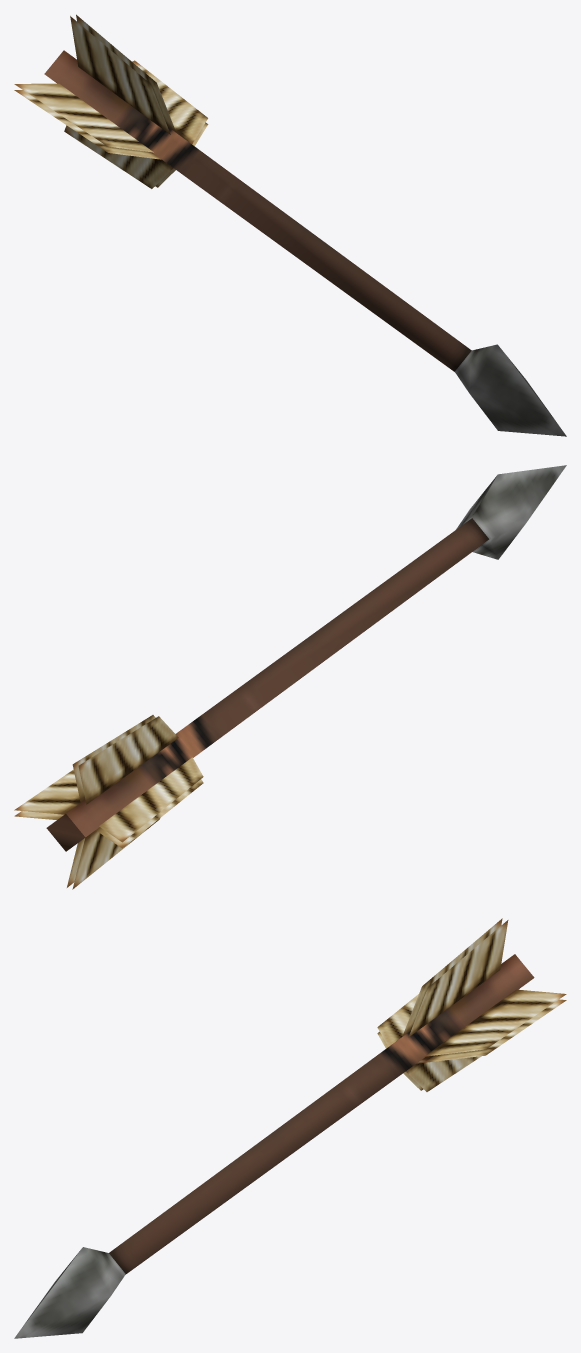
File: UD_arrow.FBX
3 renders of one model, top to bottom at view 1: azimuth 30°, elevation 25°; view 2: azimuth 150°, elevation 25°; view 3: azimuth 330°, elevation 25°, orthographic.
Visible parts, largest first — view 1: UD_arrow; view 2: UD_arrow; view 3: UD_arrow.
Part boxes in pixels (x1,y1,x2,y2): UD_arrow: [14, 14, 566, 436]; UD_arrow: [14, 465, 566, 889]; UD_arrow: [14, 918, 566, 1338].
Size of the model in its own units: 5.79 by 5.79 by 43.91.
